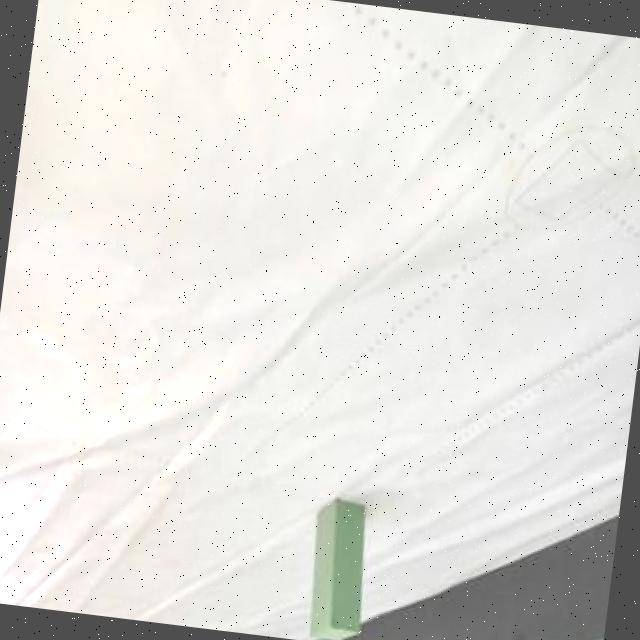greenbox: (295, 491, 378, 640)
